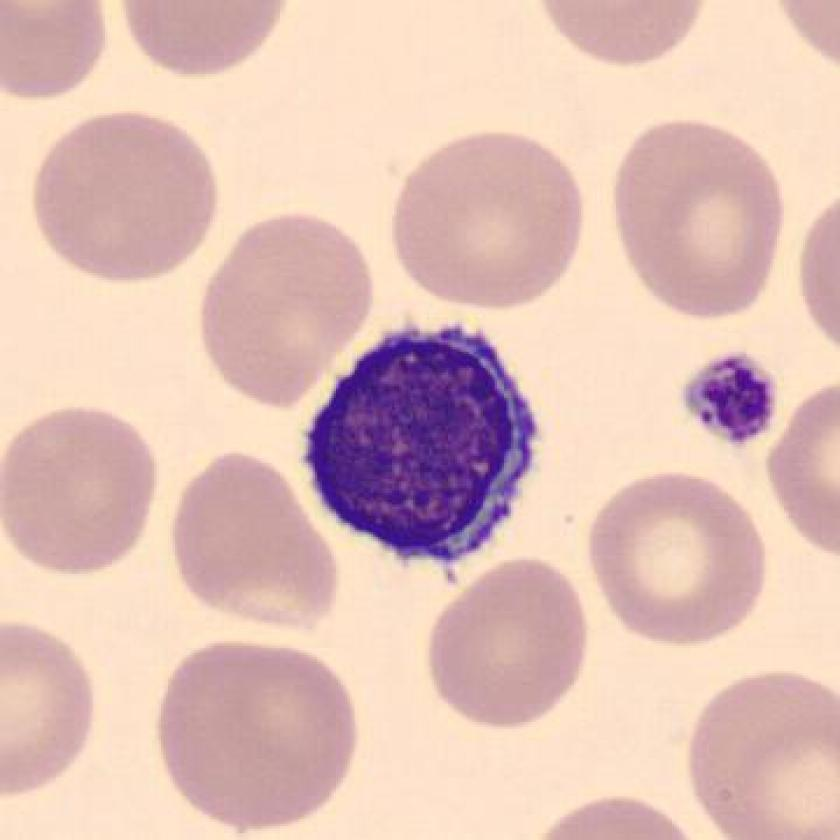lymphocyte: (288, 304, 556, 580)
